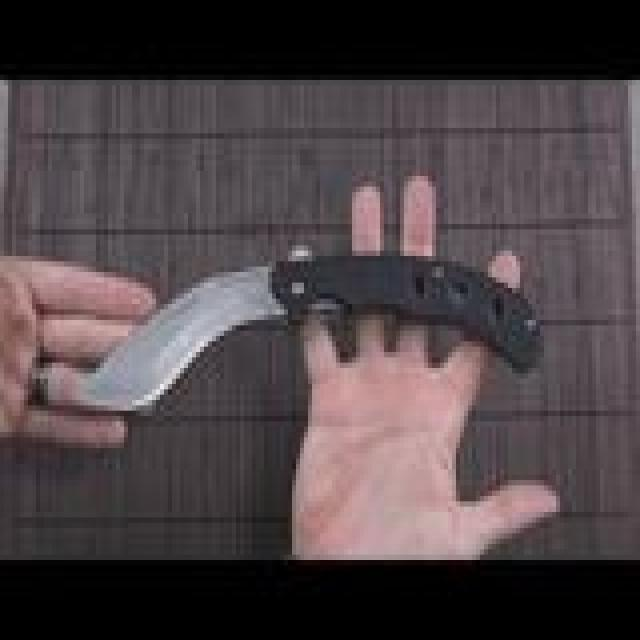Knife: (80, 245, 562, 446)
